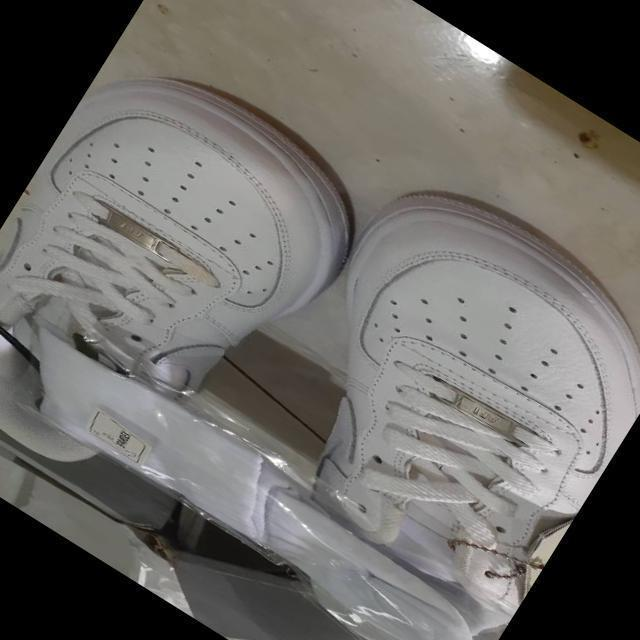nike fake air force: (178, 155, 640, 640), (0, 31, 388, 542)
